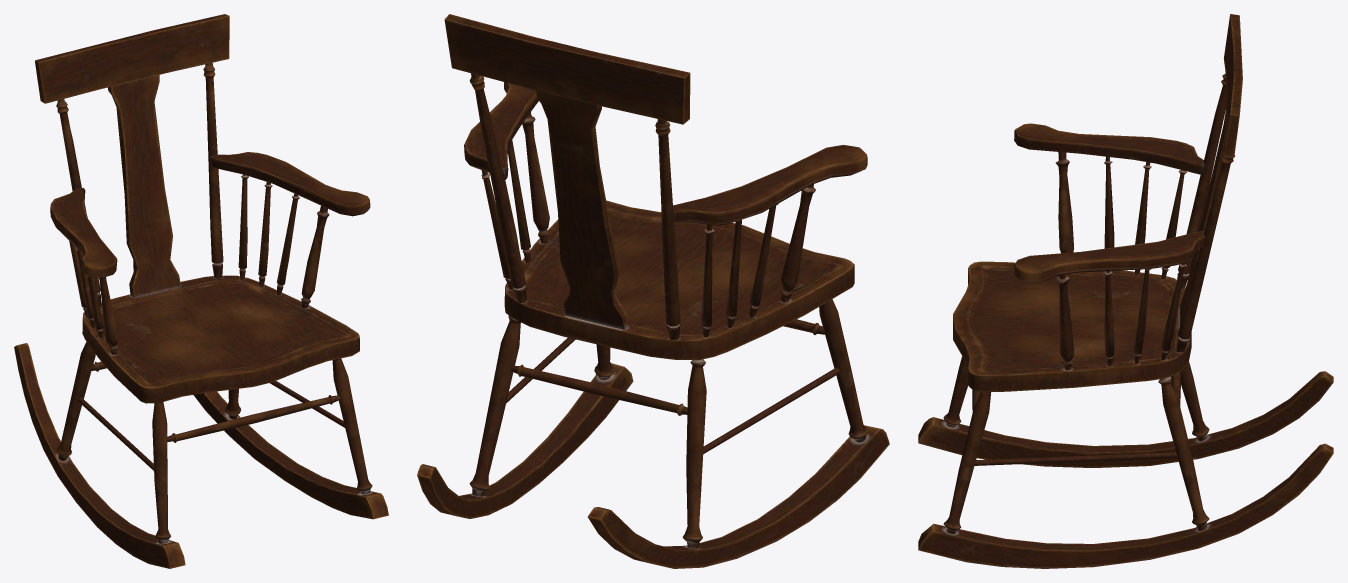
Rendered from rockingchair_01.glb.
3 views of the same model, side by side, from view 1: azimuth 30°, elevation 25°; view 2: azimuth 150°, elevation 25°; view 3: azimuth 270°, elevation 25° (orthographic). The views are drawn at different scales.
Parts seen in each view (by area): view 1: Rockingchair_01; view 2: Rockingchair_01; view 3: Rockingchair_01.
Boxes of the visible parts, x1,y1,x2,y2 form: Rockingchair_01: (14,14,388,568); Rockingchair_01: (417,14,889,568); Rockingchair_01: (918,14,1333,568).
Bounding box in the file's own units: 0.7081 × 0.9949 × 0.8335.
Materials: 1 (1 with a texture image).
